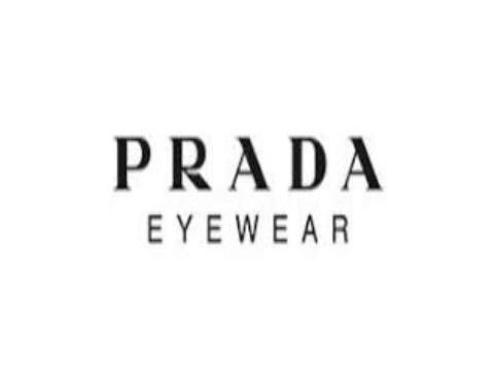PRADA: (103, 120, 387, 206)
